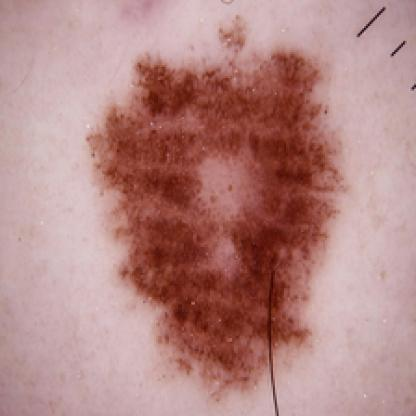Skin_Cancer-Malignant: (84, 15, 351, 406)
